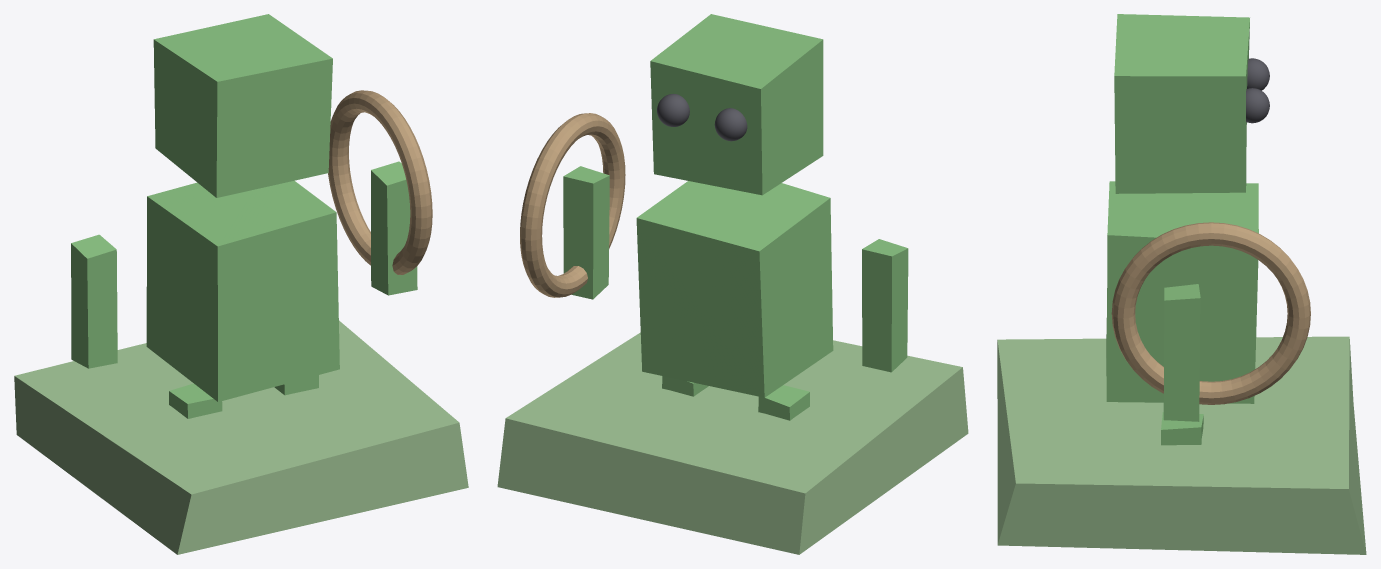
File: clay_noob_archer_hill.glb
3 renders of one model, left to right at view 1: azimuth 30°, elevation 25°; view 2: azimuth 150°, elevation 25°; view 3: azimuth 270°, elevation 25°, orthographic. The views are drawn at different scales.
Visible parts, largest first — view 1: hill; view 2: hill; view 3: hill.
Part boxes in pixels (bbox=[...]): hill: bbox=[14, 14, 468, 554]; hill: bbox=[497, 14, 968, 554]; hill: bbox=[997, 14, 1366, 554].
Size of the model in its own units: 1.36 by 1.64 by 1.26.
